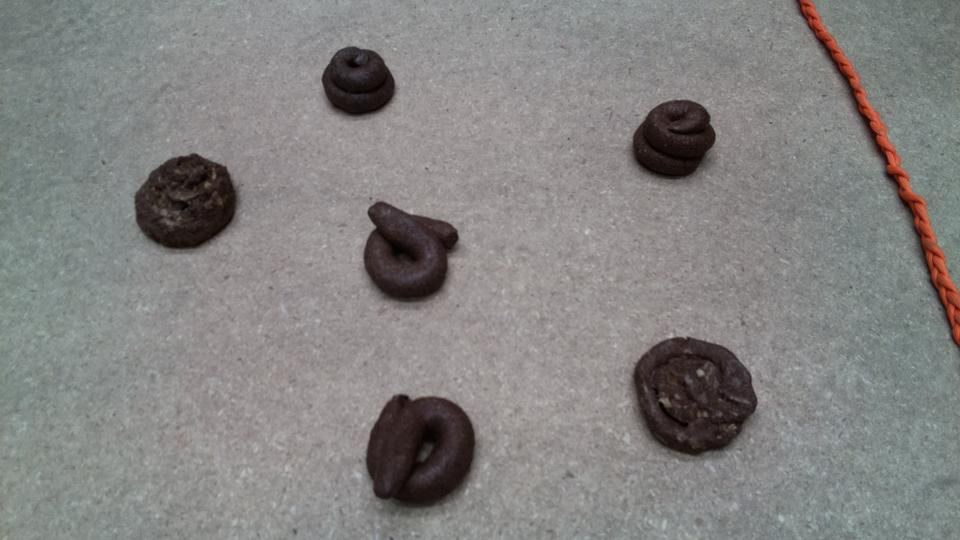poop: (629, 331, 761, 460), (363, 391, 478, 510), (132, 150, 242, 253), (359, 199, 463, 306), (629, 97, 719, 183), (319, 45, 396, 119)
rope: (794, 1, 960, 347)
